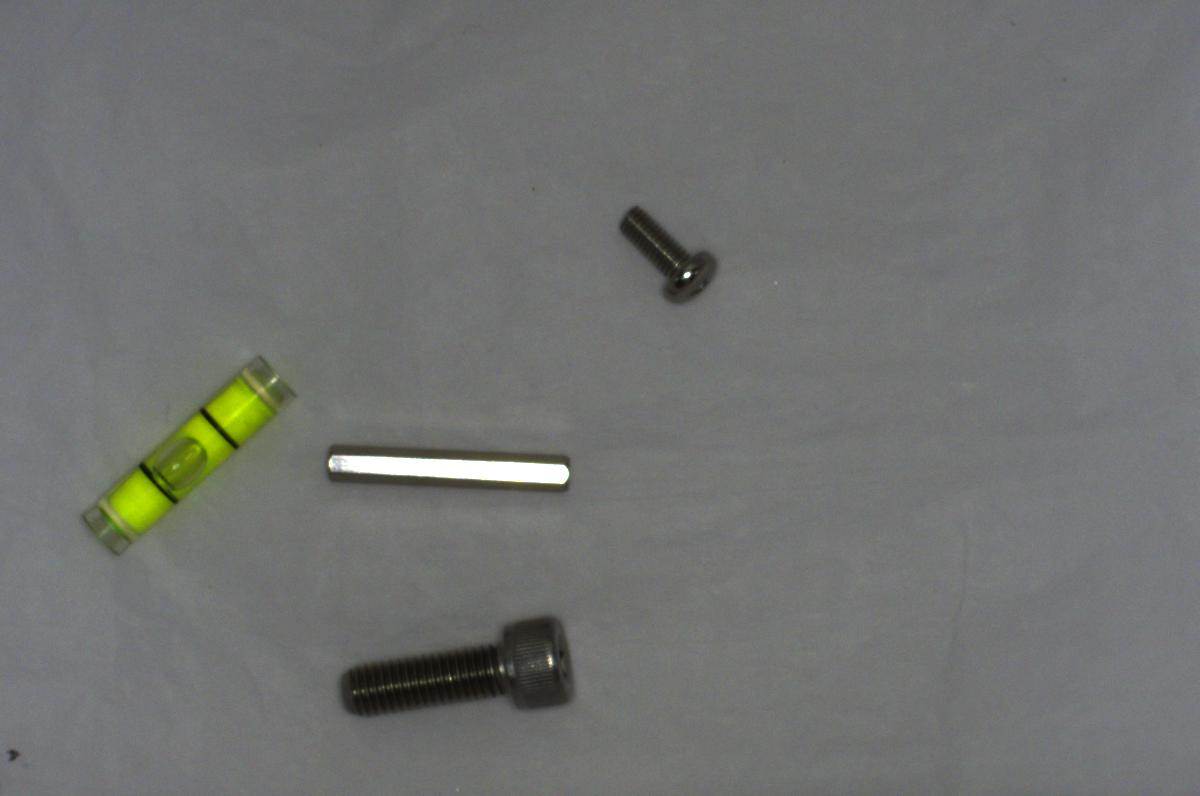Double hexagonal column: (321, 436, 575, 496)
Hexagon screw: (341, 608, 584, 721)
Horizontal bubble: (72, 345, 298, 556)
Round head screw: (606, 199, 732, 307)
